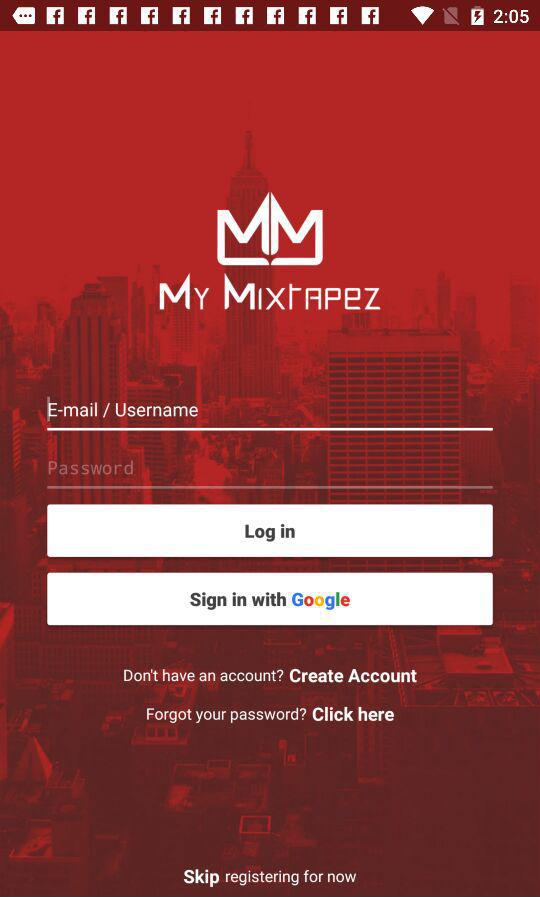BackgroundImage: (1, 32, 540, 897)
EditText: (47, 395, 494, 432), (47, 459, 494, 491)
Image: (159, 191, 382, 314)
Text: (183, 867, 357, 888), (146, 707, 307, 725), (123, 667, 284, 684), (48, 403, 199, 418), (289, 668, 418, 684), (312, 706, 395, 723), (49, 460, 135, 476)
TextButton: (47, 572, 494, 626), (47, 504, 494, 558)
UpperTaskBar: (1, 1, 540, 32)
